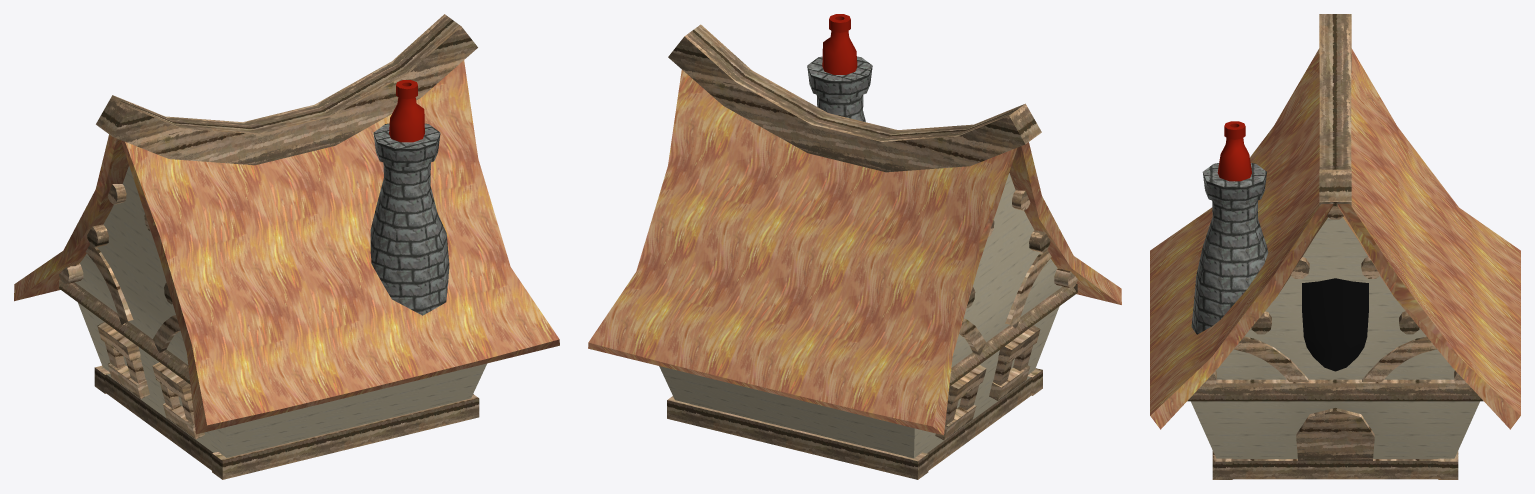
Rendered from Casa_LV1.FBX.
3 renders of one model, left to right at view 1: azimuth 30°, elevation 25°; view 2: azimuth 150°, elevation 25°; view 3: azimuth 270°, elevation 25°, orthographic. The views are drawn at different scales.
Parts seen in each view (by area): view 1: LVL1; view 2: LVL1; view 3: LVL1.
Part boxes in pixels (x1,y1,x2,y2): LVL1: (14,14,559,479); LVL1: (588,14,1121,479); LVL1: (1150,14,1520,479).
Size of the model in its own units: 0.9828 by 0.8763 by 0.8976.
Materials: 6 (4 with a texture image).
